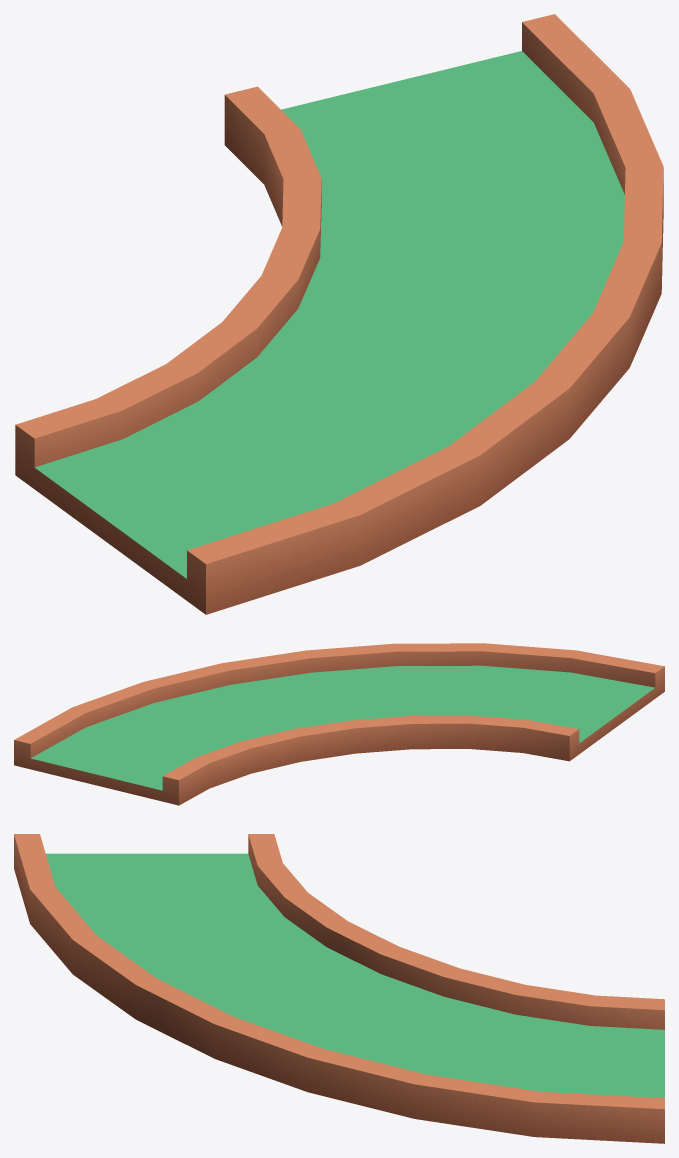
The model's file is spline-default-corner-small.glb.
3 views of the same model, one above another, from view 1: azimuth 30°, elevation 25°; view 2: azimuth 150°, elevation 25°; view 3: azimuth 270°, elevation 25° (orthographic). The views are drawn at different scales.
Visible parts, largest first — view 1: spline-default-corner-small; view 2: spline-default-corner-small; view 3: spline-default-corner-small.
Boxes of the visible parts, <box> form: spline-default-corner-small: <box>15,14,663,614</box>; spline-default-corner-small: <box>14,643,664,805</box>; spline-default-corner-small: <box>14,834,664,1143</box>.
Bounding box in the file's own units: 2.5 × 0.1467 × 2.5.
1 material, 1 textured.
